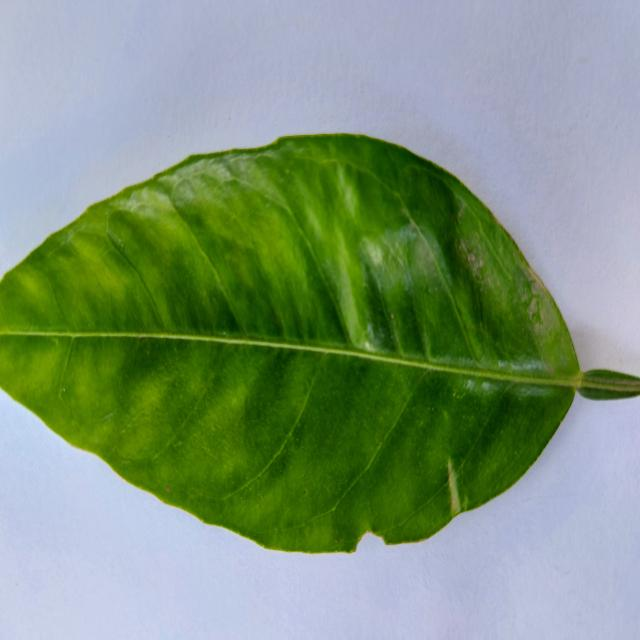greening: (0, 134, 640, 552)
